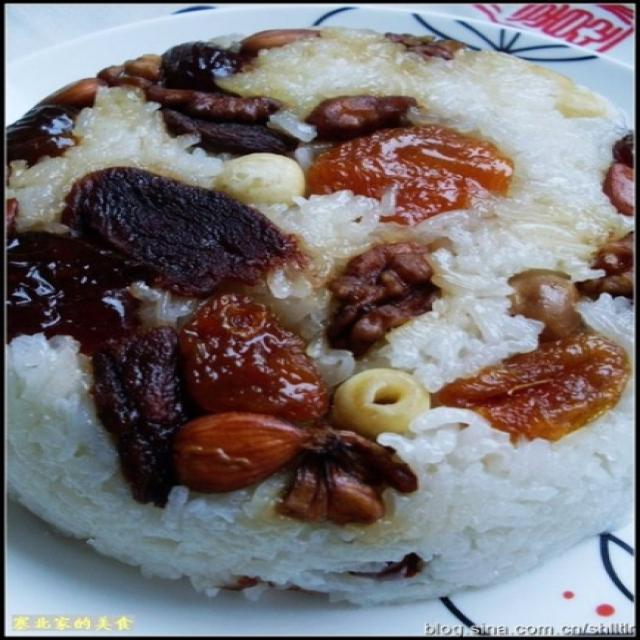米饭主食: (11, 10, 630, 623)
